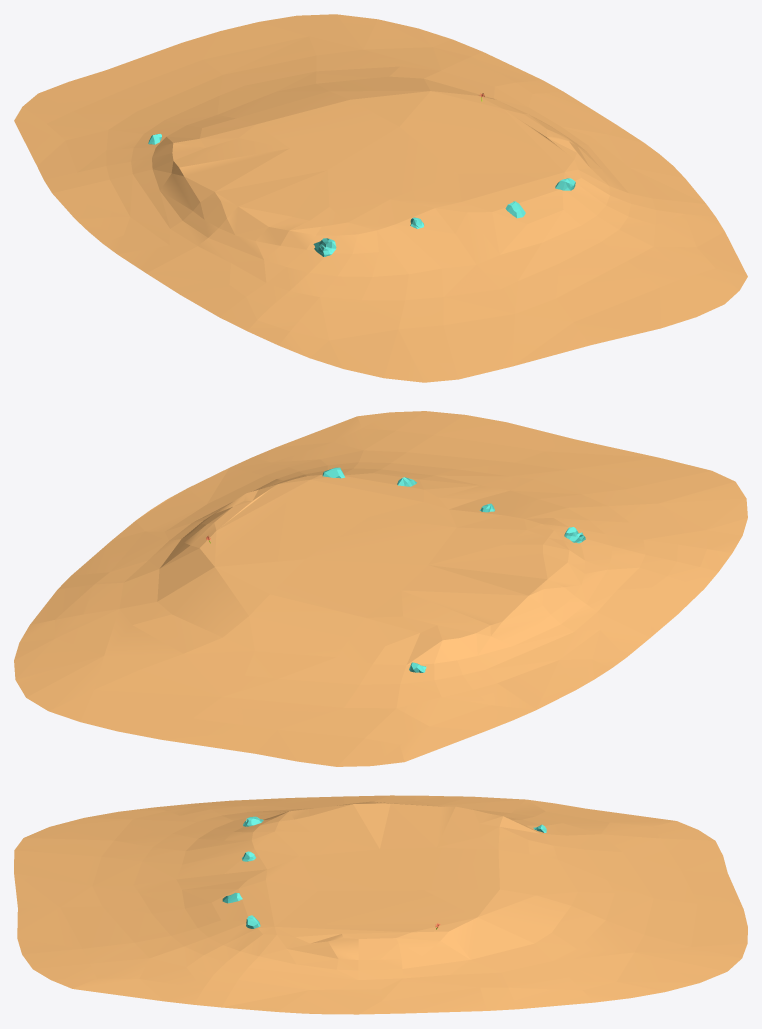
The model's file is Iislands_08.FBX.
3 views of the same model, one above another, from view 1: azimuth 30°, elevation 25°; view 2: azimuth 150°, elevation 25°; view 3: azimuth 270°, elevation 25° (orthographic). The views are drawn at different scales.
Parts seen in each view (by area): view 1: Islands_08; view 2: Islands_08; view 3: Islands_08.
Part boxes in pixels (x1,y1,x2,y2): Islands_08: (14,14,747,382); Islands_08: (14,411,747,766); Islands_08: (14,795,747,1014).
Bounding box in the file's own units: 1516 × 132 × 2147.
